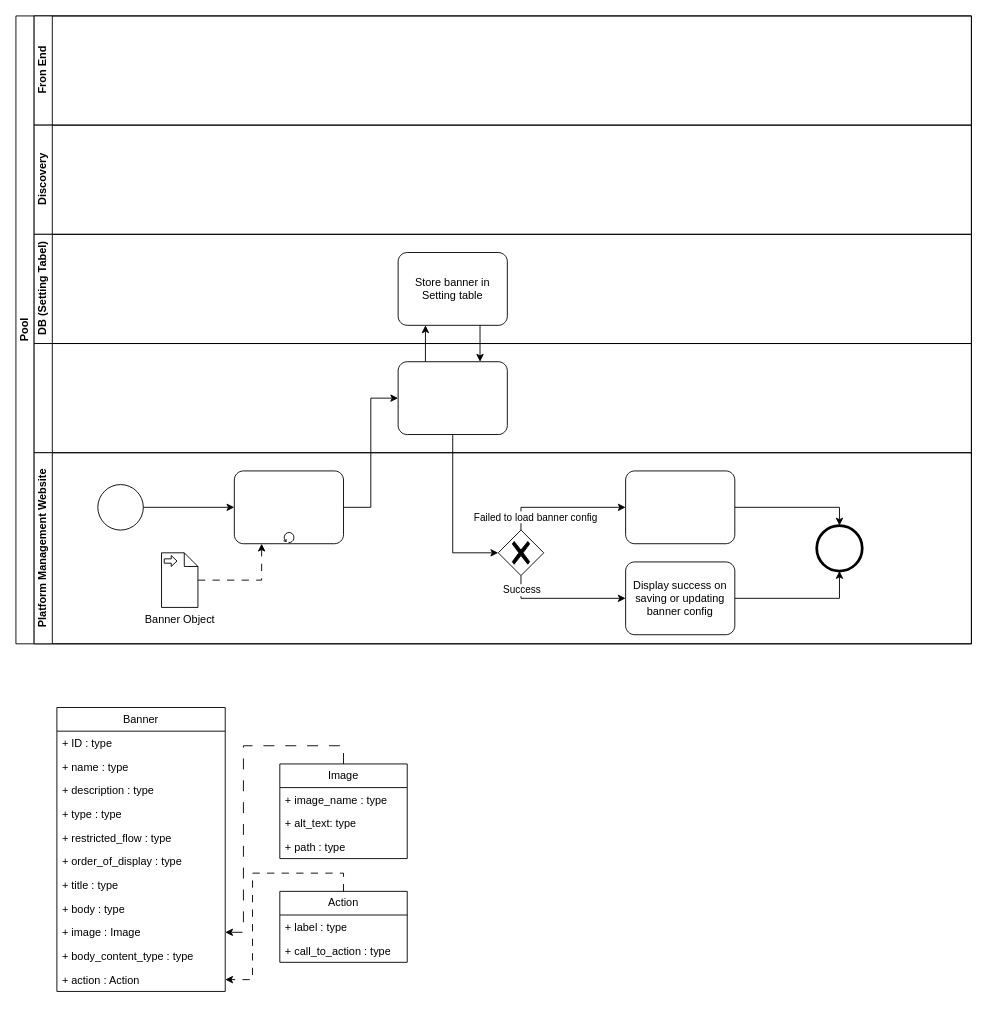
Image size: 987x1010. Some labels were removed from this diagram. The shapes that lost their labels are listed below. From the top down, each one's box as (x1, y1, x2, y2) in pixels, then its label:
(397, 361, 507, 435): Platform Mangement API
(33, 343, 971, 453): Platform Management
(97, 484, 143, 530): Start
(233, 470, 344, 544): Create Banner & Publish
(625, 470, 735, 544): Display failure to save banner config
(816, 525, 862, 571): End
